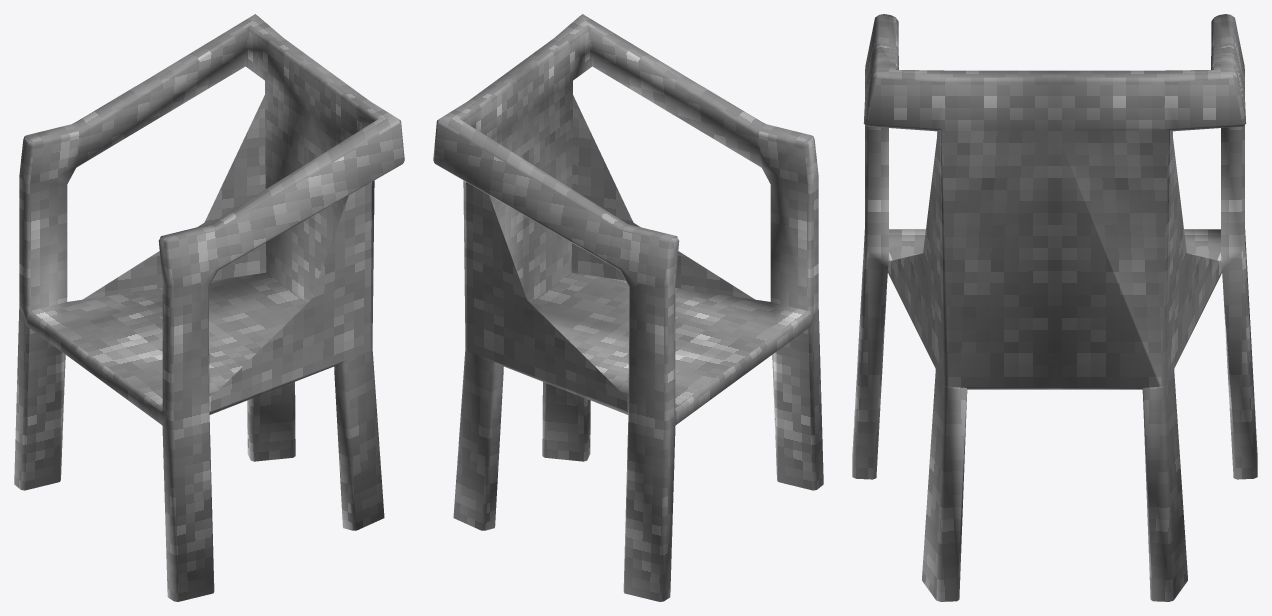
File: plasticChair.glb
The picture shows the model from 3 angles, left to right: view 1: azimuth 30°, elevation 25°; view 2: azimuth 150°, elevation 25°; view 3: azimuth 270°, elevation 25°; orthographic projection. The views are drawn at different scales.
Visible parts, largest first — view 1: Plane.002; view 2: Plane.002; view 3: Plane.002.
Boxes of the visible parts, x1,y1,x2,y2 form: Plane.002: (14, 14, 404, 601); Plane.002: (433, 14, 823, 601); Plane.002: (852, 14, 1257, 601).
Bounding box in the file's own units: 1.45 × 2.38 × 1.68.
1 material, 1 textured.
